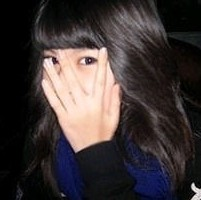face: (41, 27, 117, 128)
